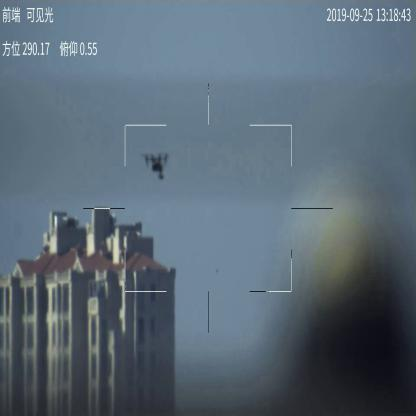uav: (142, 150, 168, 179)
